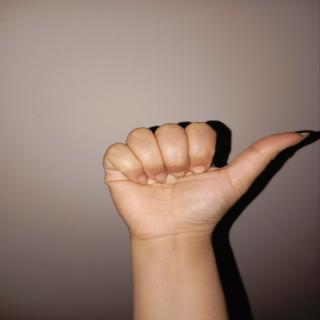DAD: (92, 111, 320, 244)
